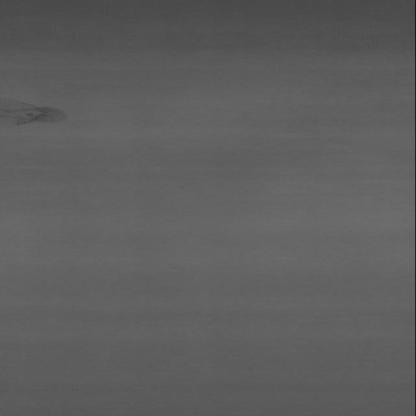water_spot: (0, 98, 74, 135)
